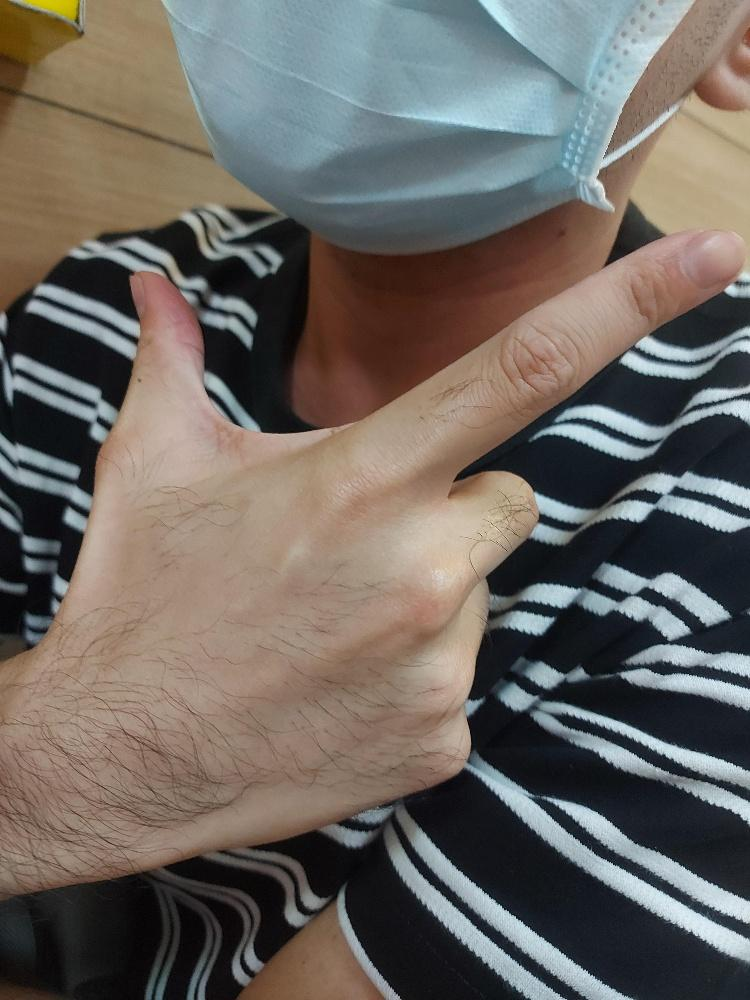g: (53, 224, 745, 877)
